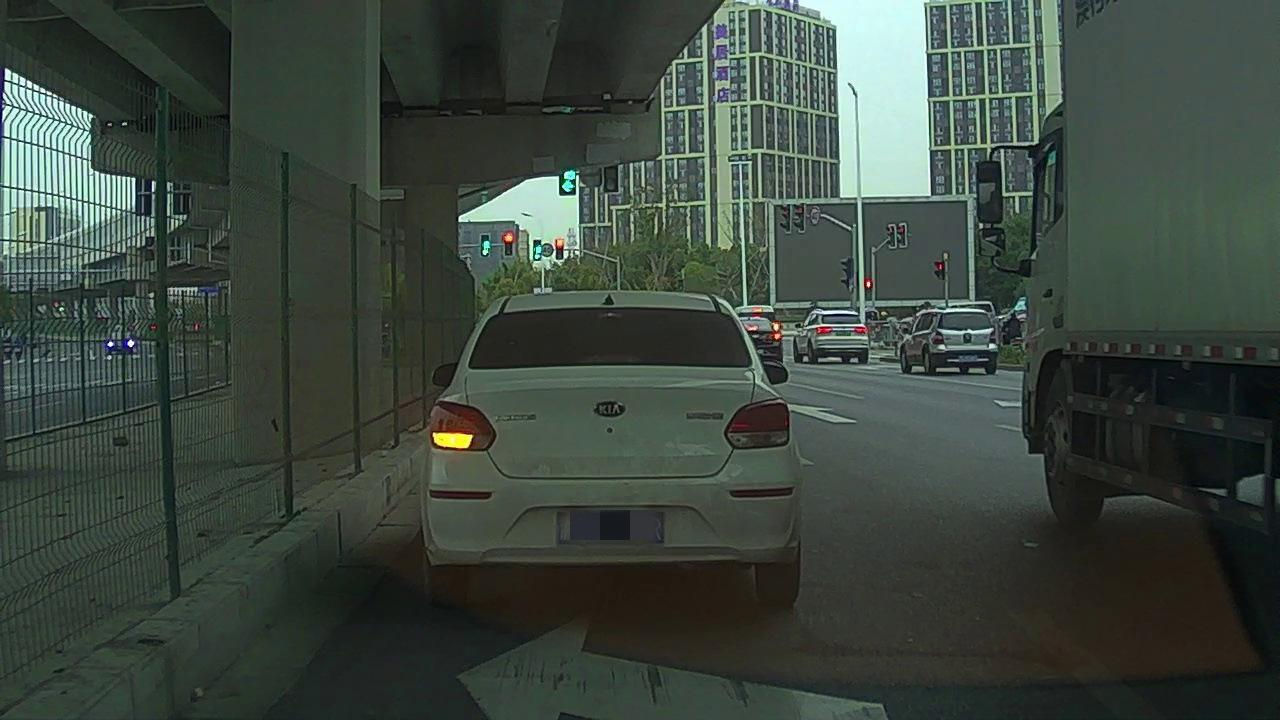traffic_light: (560, 172, 577, 197), (604, 167, 619, 191), (531, 240, 542, 262), (480, 235, 490, 259), (504, 235, 514, 253), (555, 240, 564, 259)
